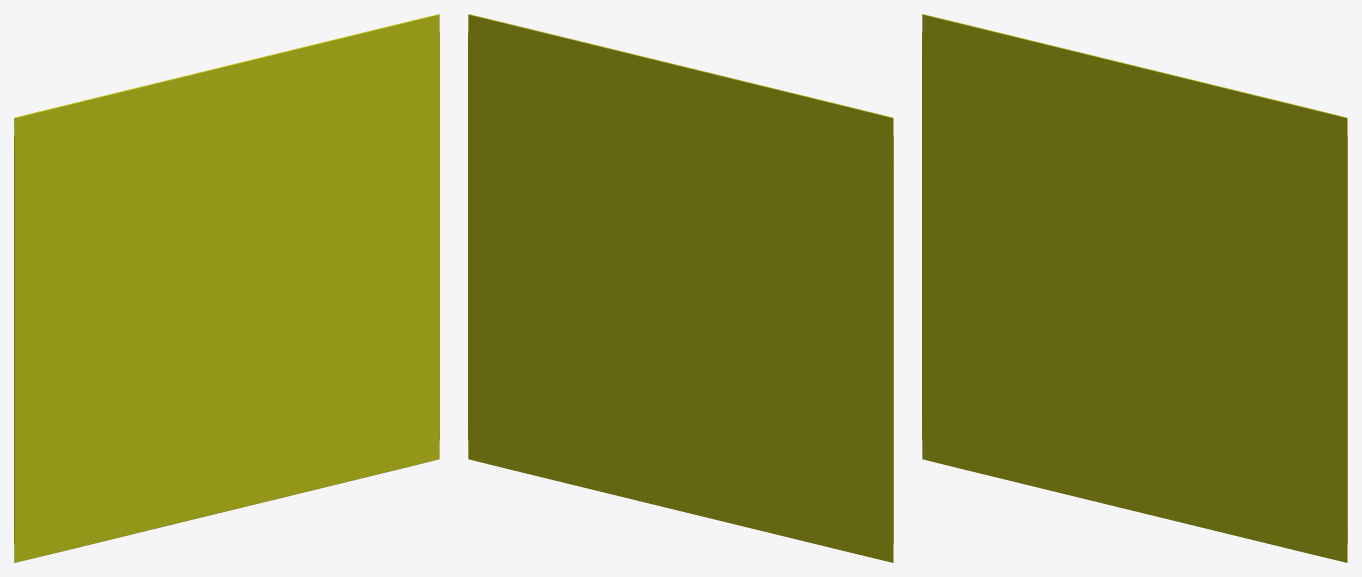
File: FemaleJacket.gltf
3 renders of one model, left to right at view 1: azimuth 30°, elevation 25°; view 2: azimuth 150°, elevation 25°; view 3: azimuth 330°, elevation 25°, orthographic.
Parts seen in each view (by area): view 1: Body; view 2: Body; view 3: Body.
Part boxes in pixels (box(x1,y1,x2,y2)): Body: box(14, 14, 439, 562); Body: box(468, 14, 893, 562); Body: box(922, 14, 1347, 562).
Size of the model in its own units: 0.2005 by 0.2005 by 0.0005.
